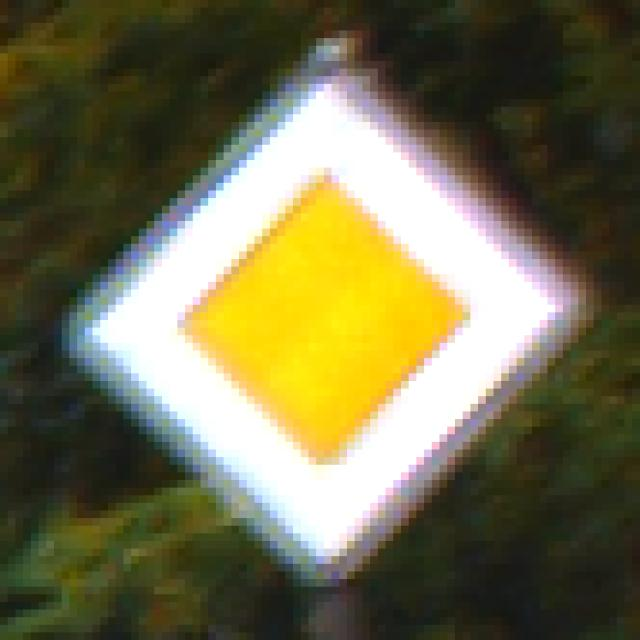Main Road: (55, 62, 587, 588)
